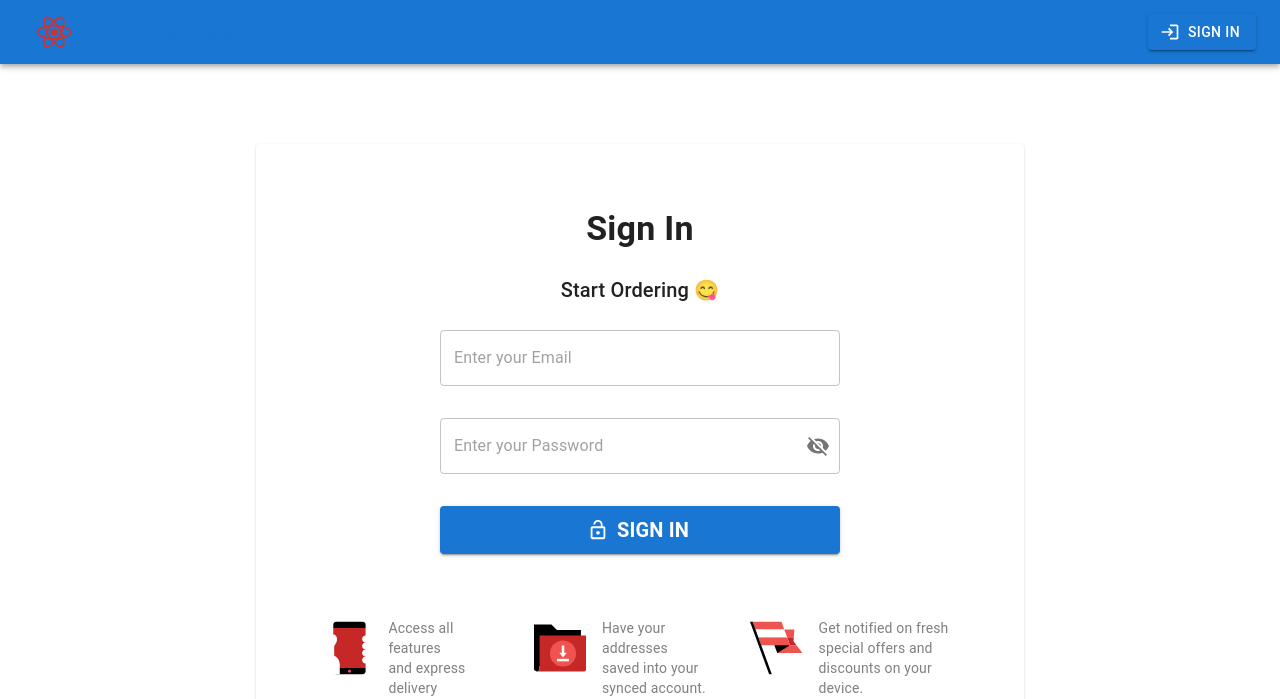
<SignIn /> (including accessibility exceptions) › stays still at itself due to wrong credentials entry
Type "eve.holt@reqres.in1234" into the field named "email-input" at [640, 358], box [440, 330, 840, 386]
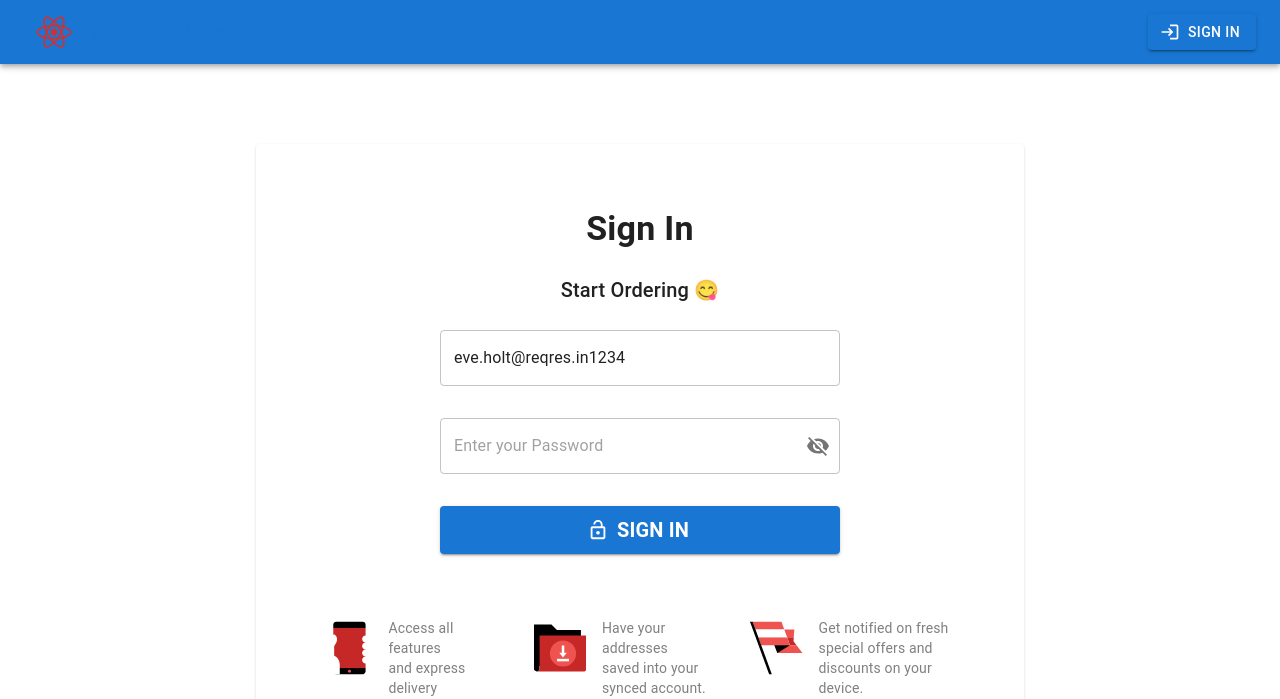
Type "cityslick1234a" into the password field named "password-input" at [615, 446], box [440, 418, 790, 474]
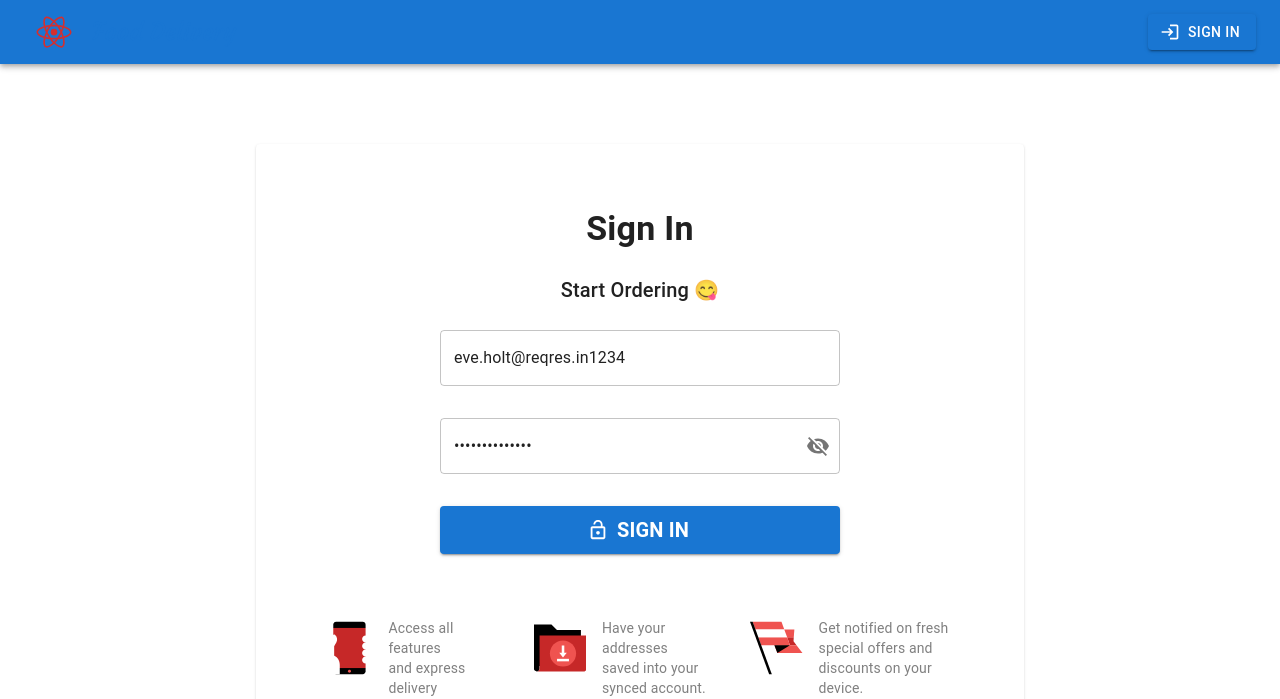
Click the button with test id "signin-btn" at [640, 530], box [440, 506, 840, 554]
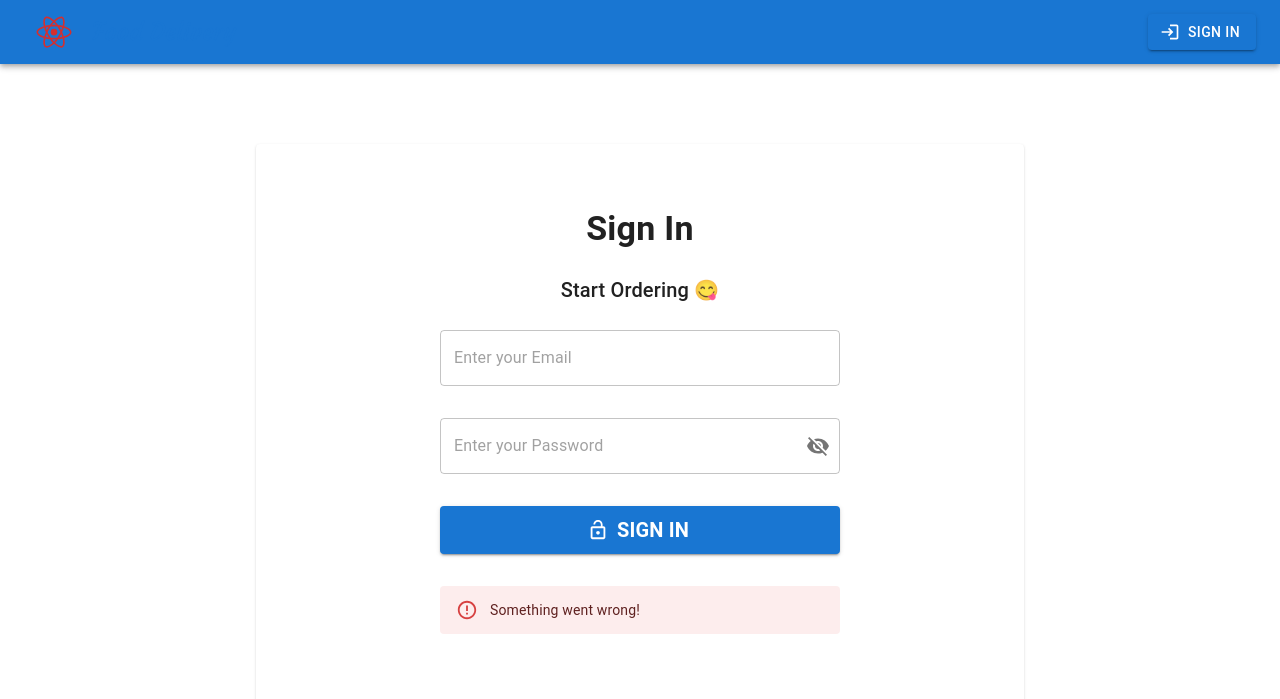
Expected: the heading "Start Ordering 😋" is shown, [561, 274, 719, 306]
Result: the message "Something went wrong!" is shown at [440, 586, 840, 634]
